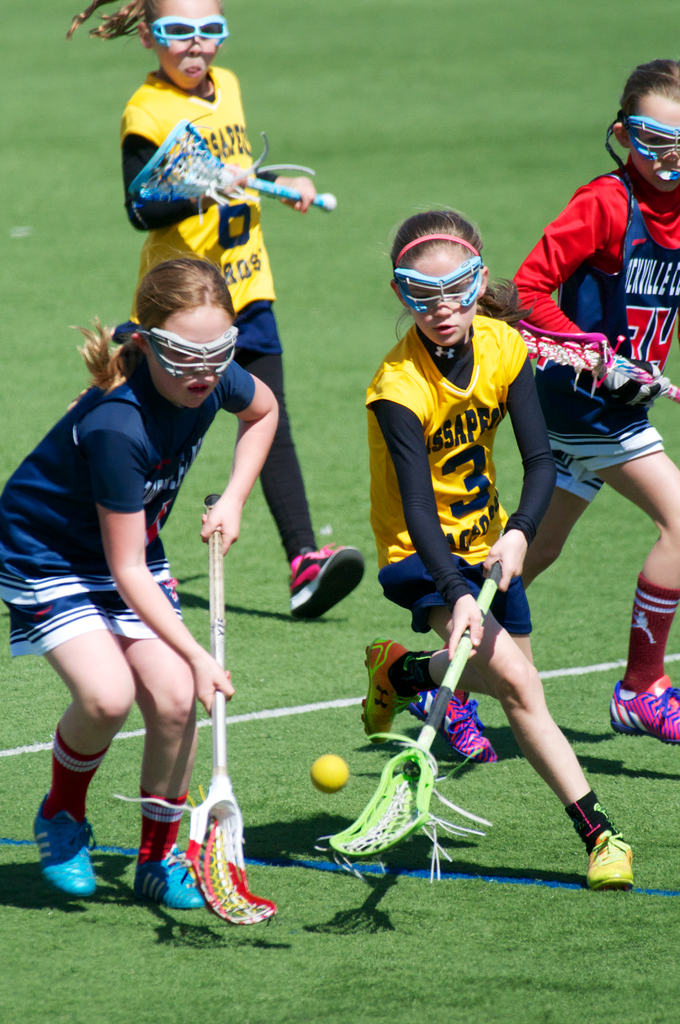Person: (407, 57, 680, 765), (360, 202, 636, 892), (64, 0, 367, 621), (0, 240, 279, 909)
